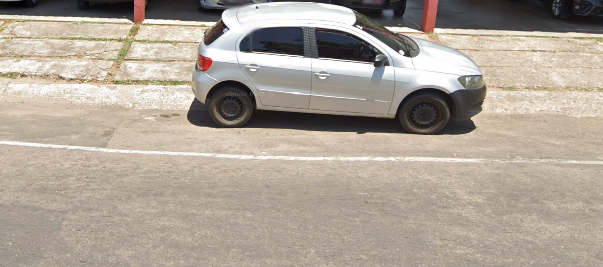car: (184, 1, 494, 154)
